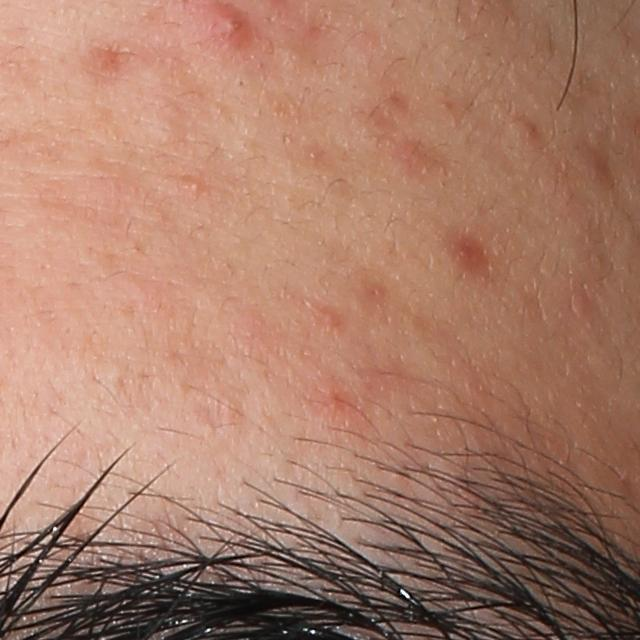papule: (206, 5, 249, 54), (508, 116, 540, 143)
